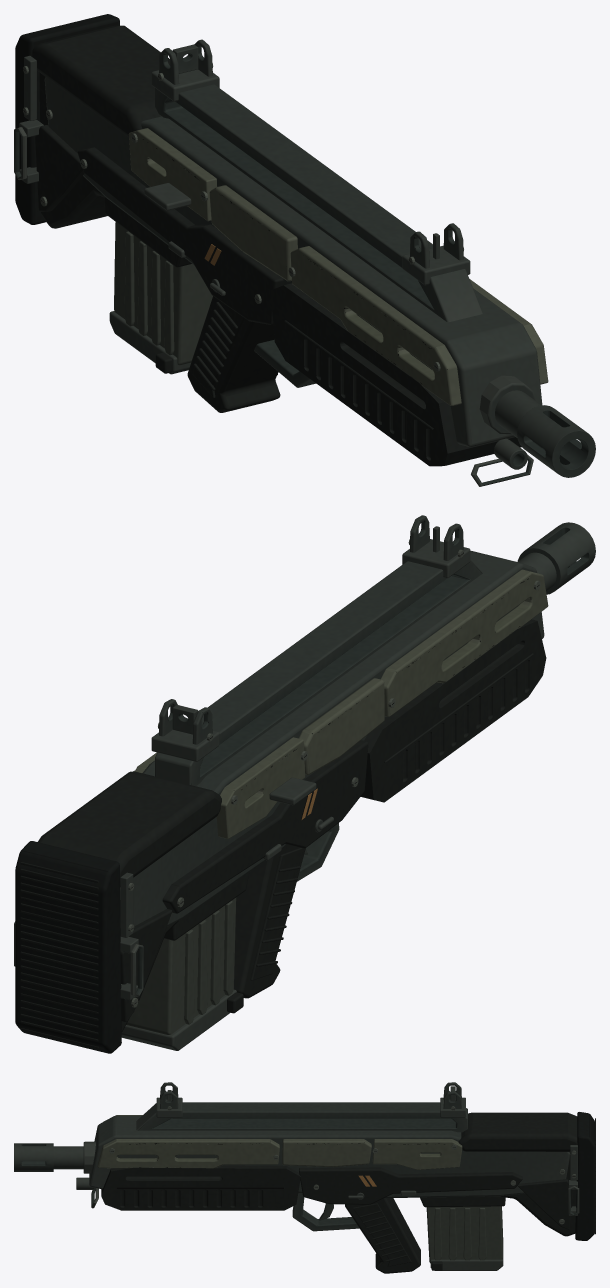
File: MilitiaServiceRifle.glb
The picture shows the model from 3 angles, top to bottom: view 1: azimuth 30°, elevation 25°; view 2: azimuth 150°, elevation 25°; view 3: azimuth 270°, elevation 25°; orthographic projection. The views are drawn at different scales.
Visible parts, largest first — view 1: Body, Magazine, Grip, Bolt; view 2: Body, Magazine, Grip, Bolt; view 3: Body, Magazine, Grip.
Part boxes in pixels (x1,y1,x2,y2): Body: (14,14,595,486); Magazine: (109,222,212,374); Grip: (187,296,280,412); Bolt: (144,183,191,210); Body: (14,515,595,1053); Magazine: (121,897,243,1050); Grip: (234,844,305,998); Bolt: (269,777,316,805); Body: (14,1082,595,1240); Magazine: (426,1206,503,1270); Grip: (345,1198,420,1273).
Bounding box in the file's own units: 0.161 × 0.3589 × 1.05.
Materials: 1 (1 with a texture image).
